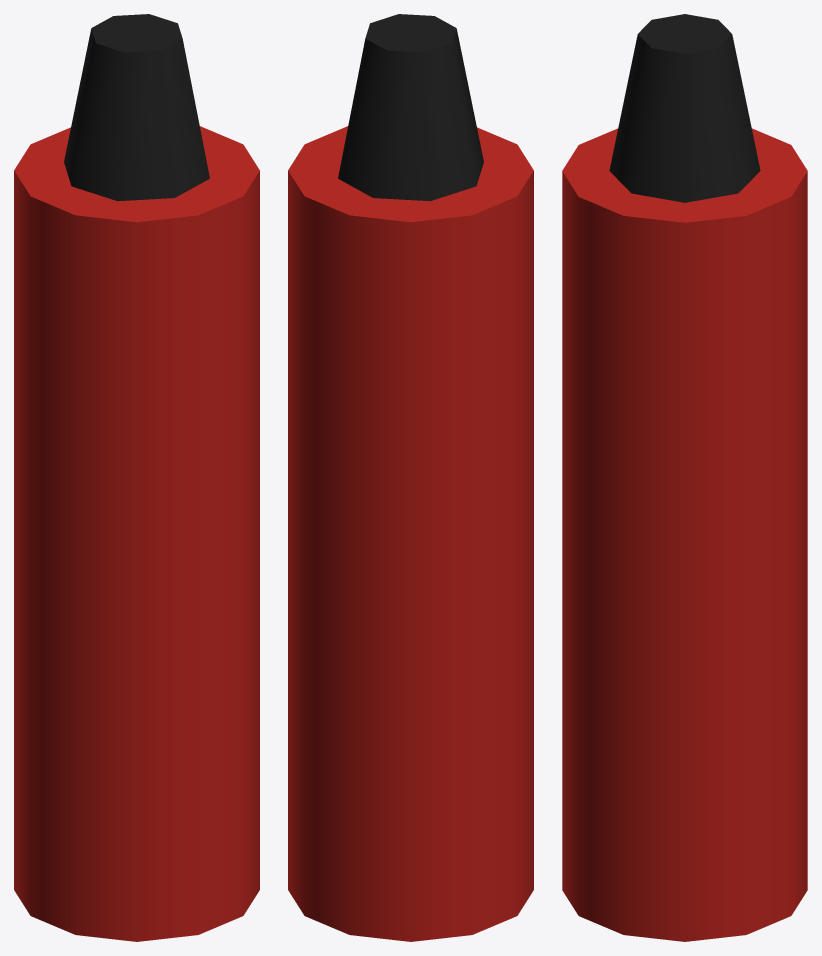
The model's file is extinguisher.glb.
The picture shows the model from 3 angles, left to right: view 1: azimuth 30°, elevation 25°; view 2: azimuth 150°, elevation 25°; view 3: azimuth 270°, elevation 25°; orthographic projection.
Parts seen in each view (by area): view 1: extinguisher; view 2: extinguisher; view 3: extinguisher.
Boxes of the visible parts, box(x1,y1,x2,y2) form: extinguisher: box(14, 14, 259, 941); extinguisher: box(288, 14, 533, 941); extinguisher: box(562, 14, 807, 941).
Bounding box in the file's own units: 0.13 × 0.5 × 0.13.
